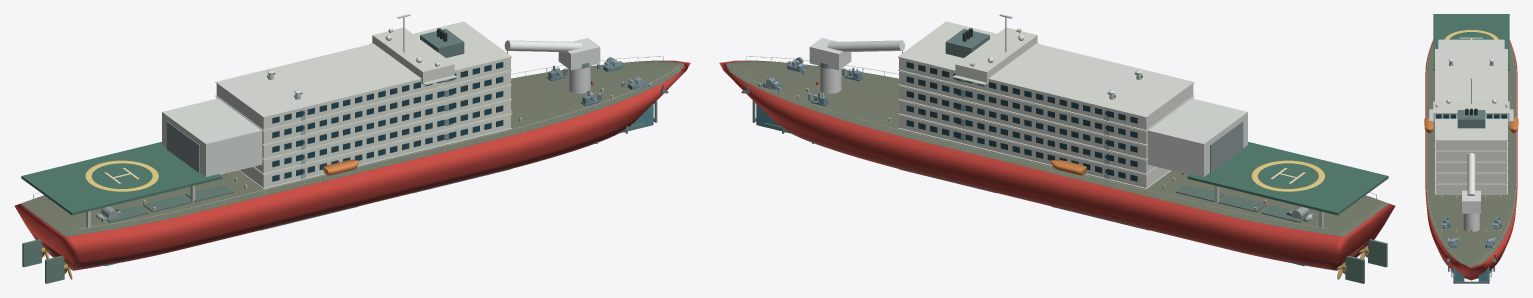
The model's file is sa-agulhas-ii.lod1.glb.
3 views of the same model, side by side, from view 1: azimuth 30°, elevation 25°; view 2: azimuth 150°, elevation 25°; view 3: azimuth 270°, elevation 25° (orthographic). The views are drawn at different scales.
Parts seen in each view (by area): view 1: sa-agulhas-ii.structure.hull.outer-hull-shell.1, sa-agulhas-ii.structure.decks.main-strength-deck.1, sa-agulhas-ii.accommodation.superstructure.superstructure-we, sa-agulhas-ii.cargo.aviation.helicopter-landing-deck.1, sa-agulhas-ii.cargo.aviation.helicopter-hangar.1, sa-agulhas-ii.structure.hull.antifouling-underwater-shell.1, sa-agulhas-ii.accommodation.superstructure.deck-5-enclosure., sa-agulhas-ii.accommodation.superstructure.deck-2-enclosure., sa-agulhas-ii.accommodation.superstructure.deck-1-enclosure., sa-agulhas-ii.accommodation.superstructure.deck-4-enclosure., sa-agulhas-ii.accommodation.superstructure.deck-3-enclosure., sa-agulhas-ii.navigation.bridge.wheelhouse.1 (+14 smaller); view 2: sa-agulhas-ii.structure.hull.outer-hull-shell.1, sa-agulhas-ii.structure.decks.main-strength-deck.1, sa-agulhas-ii.accommodation.superstructure.superstructure-we, sa-agulhas-ii.cargo.aviation.helicopter-landing-deck.1, sa-agulhas-ii.cargo.aviation.helicopter-hangar.1, sa-agulhas-ii.structure.hull.antifouling-underwater-shell.1, sa-agulhas-ii.accommodation.superstructure.deck-5-enclosure., sa-agulhas-ii.accommodation.superstructure.deck-2-enclosure., sa-agulhas-ii.accommodation.superstructure.deck-1-enclosure., sa-agulhas-ii.accommodation.superstructure.deck-4-enclosure., sa-agulhas-ii.accommodation.superstructure.deck-3-enclosure., sa-agulhas-ii.navigation.bridge.wheelhouse.1 (+14 smaller); view 3: sa-agulhas-ii.structure.decks.main-strength-deck.1, sa-agulhas-ii.accommodation.superstructure.superstructure-we, sa-agulhas-ii.cargo.aviation.helicopter-landing-deck.1, sa-agulhas-ii.structure.hull.outer-hull-shell.1, sa-agulhas-ii.navigation.bridge.wheelhouse.1, sa-agulhas-ii.cargo.aviation.helicopter-hangar.1, sa-agulhas-ii.accommodation.superstructure.deck-4-enclosure., sa-agulhas-ii.accommodation.superstructure.deck-2-enclosure., sa-agulhas-ii.accommodation.superstructure.deck-3-enclosure., sa-agulhas-ii.accommodation.superstructure.deck-5-enclosure., sa-agulhas-ii.accommodation.superstructure.deck-1-enclosure., sa-agulhas-ii.propulsion.exhaust.exhaust-casing.1 (+15 smaller).
Boxes of the visible parts, x1,y1,x2,y2 form: sa-agulhas-ii.structure.hull.outer-hull-shell.1: [14, 60, 690, 263]; sa-agulhas-ii.structure.decks.main-strength-deck.1: [21, 61, 683, 236]; sa-agulhas-ii.accommodation.superstructure.superstructure-we: [215, 21, 511, 117]; sa-agulhas-ii.cargo.aviation.helicopter-landing-deck.1: [21, 142, 222, 215]; sa-agulhas-ii.cargo.aviation.helicopter-hangar.1: [162, 98, 262, 176]; sa-agulhas-ii.structure.hull.antifouling-underwater-shell.1: [32, 118, 638, 270]; sa-agulhas-ii.accommodation.superstructure.deck-5-enclosure.: [216, 57, 510, 129]; sa-agulhas-ii.accommodation.superstructure.deck-2-enclosure.: [254, 100, 510, 173]; sa-agulhas-ii.accommodation.superstructure.deck-1-enclosure.: [239, 115, 510, 187]; sa-agulhas-ii.accommodation.superstructure.deck-4-enclosure.: [216, 71, 510, 144]; sa-agulhas-ii.accommodation.superstructure.deck-3-enclosure.: [262, 86, 510, 158]; sa-agulhas-ii.navigation.bridge.wheelhouse.1: [372, 27, 454, 84]; sa-agulhas-ii.structure.hull.outer-hull-shell.1: [719, 60, 1395, 263]; sa-agulhas-ii.structure.decks.main-strength-deck.1: [726, 61, 1388, 236]; sa-agulhas-ii.accommodation.superstructure.superstructure-we: [898, 21, 1194, 117]; sa-agulhas-ii.cargo.aviation.helicopter-landing-deck.1: [1187, 142, 1388, 215]; sa-agulhas-ii.cargo.aviation.helicopter-hangar.1: [1147, 98, 1247, 176]; sa-agulhas-ii.structure.hull.antifouling-underwater-shell.1: [771, 118, 1377, 270]; sa-agulhas-ii.accommodation.superstructure.deck-5-enclosure.: [899, 57, 1193, 129]; sa-agulhas-ii.accommodation.superstructure.deck-2-enclosure.: [899, 100, 1155, 173]; sa-agulhas-ii.accommodation.superstructure.deck-1-enclosure.: [899, 115, 1170, 187]; sa-agulhas-ii.accommodation.superstructure.deck-4-enclosure.: [899, 71, 1193, 144]; sa-agulhas-ii.accommodation.superstructure.deck-3-enclosure.: [899, 86, 1147, 158]; sa-agulhas-ii.navigation.bridge.wheelhouse.1: [955, 27, 1037, 84]; sa-agulhas-ii.structure.decks.main-strength-deck.1: [1426, 43, 1516, 267]; sa-agulhas-ii.accommodation.superstructure.superstructure-we: [1435, 49, 1507, 140]; sa-agulhas-ii.cargo.aviation.helicopter-landing-deck.1: [1433, 14, 1509, 70]; sa-agulhas-ii.structure.hull.outer-hull-shell.1: [1425, 40, 1517, 276]; sa-agulhas-ii.navigation.bridge.wheelhouse.1: [1433, 101, 1509, 122]; sa-agulhas-ii.cargo.aviation.helicopter-hangar.1: [1438, 39, 1504, 48]; sa-agulhas-ii.accommodation.superstructure.deck-4-enclosure.: [1436, 151, 1506, 160]; sa-agulhas-ii.accommodation.superstructure.deck-2-enclosure.: [1436, 173, 1506, 182]; sa-agulhas-ii.accommodation.superstructure.deck-3-enclosure.: [1436, 162, 1506, 171]; sa-agulhas-ii.accommodation.superstructure.deck-5-enclosure.: [1436, 141, 1506, 149]; sa-agulhas-ii.accommodation.superstructure.deck-1-enclosure.: [1436, 184, 1506, 193]; sa-agulhas-ii.propulsion.exhaust.exhaust-casing.1: [1457, 110, 1485, 128].
Bounding box in the file's own units: 135 × 33.19 × 22.16.
